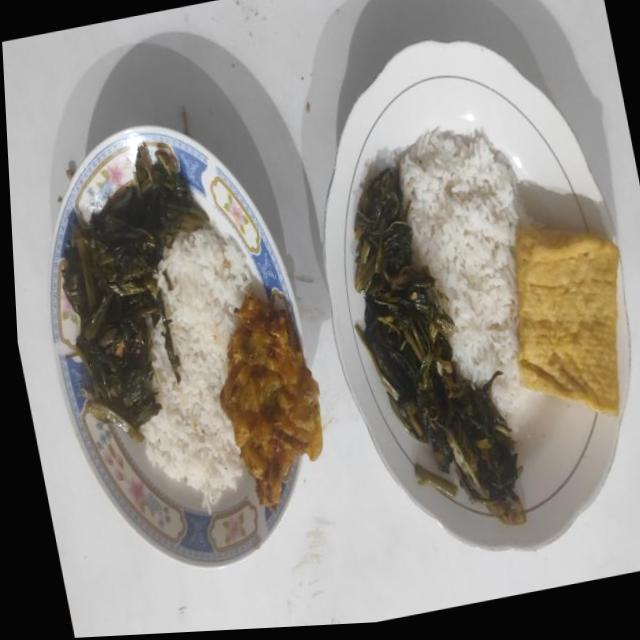nasi_putih: (388, 130, 524, 420), (141, 228, 251, 510)
tahu_goreng: (516, 225, 620, 416)
tumis_kangkung: (354, 168, 524, 522), (63, 144, 209, 436)
